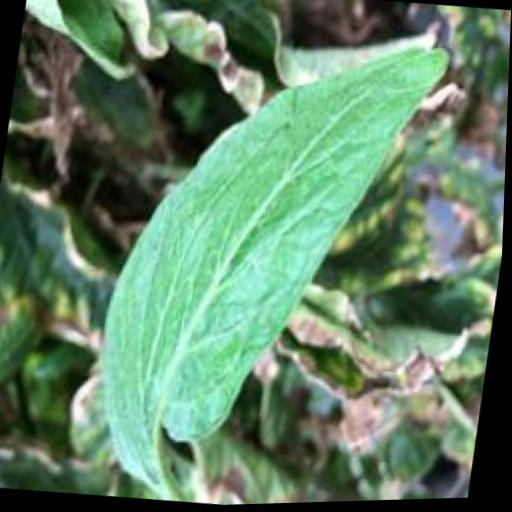Healthy: (75, 10, 458, 510)
